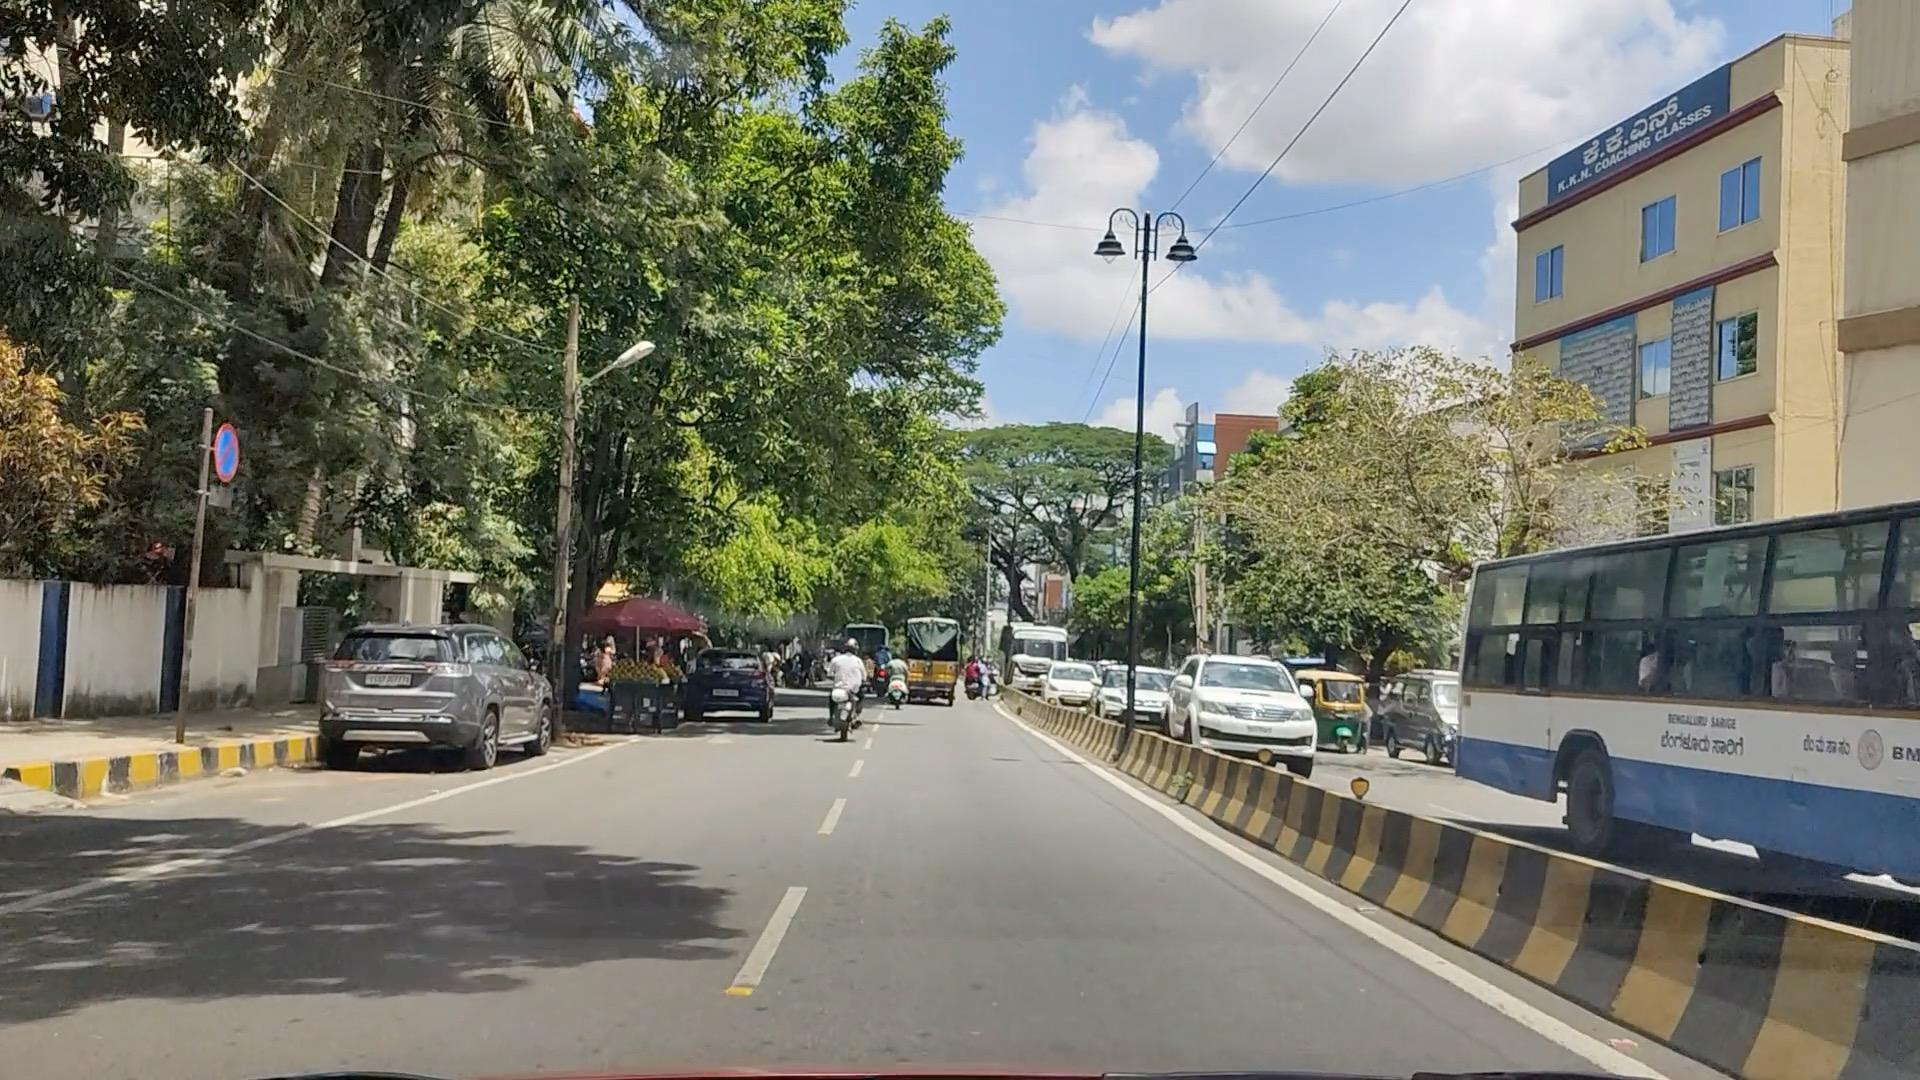LMV: (314, 620, 477, 773), (820, 637, 870, 758)
